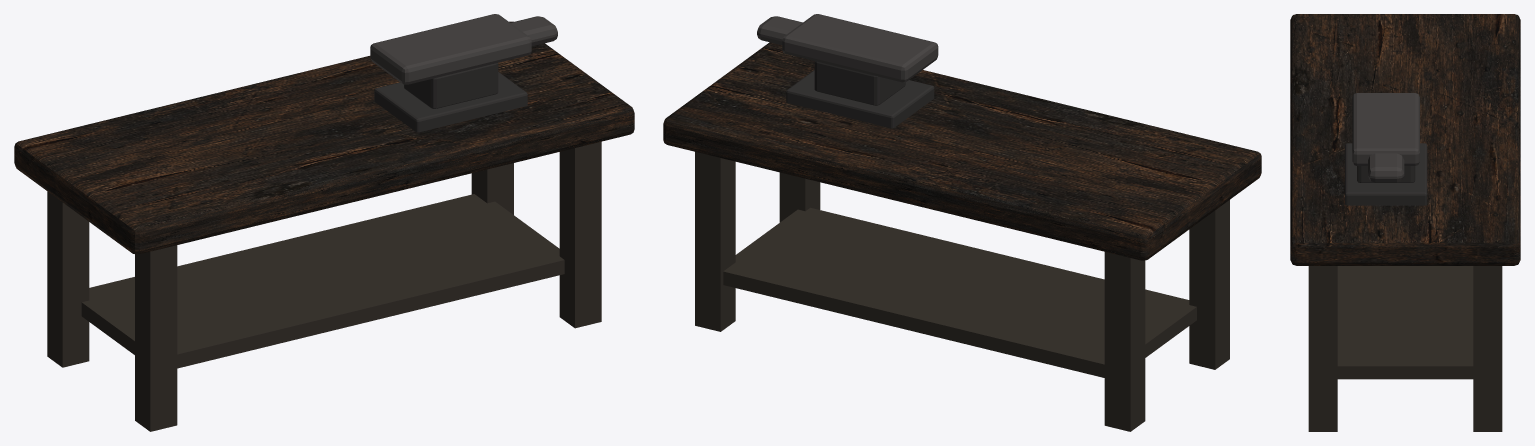
File: room_anvil_bench.glb
3 renders of one model, left to right at view 1: azimuth 30°, elevation 25°; view 2: azimuth 150°, elevation 25°; view 3: azimuth 270°, elevation 25°, orthographic. The views are drawn at different scales.
Parts seen in each view (by area): view 1: room_anvil_bench; view 2: room_anvil_bench; view 3: room_anvil_bench.
Part boxes in pixels (bbox=[...]): room_anvil_bench: bbox=[14, 14, 634, 431]; room_anvil_bench: bbox=[663, 14, 1261, 431]; room_anvil_bench: bbox=[1290, 14, 1520, 431].
Bounding box in the file's own units: 2.25 × 1.19 × 0.95.
4 materials, 1 textured.
